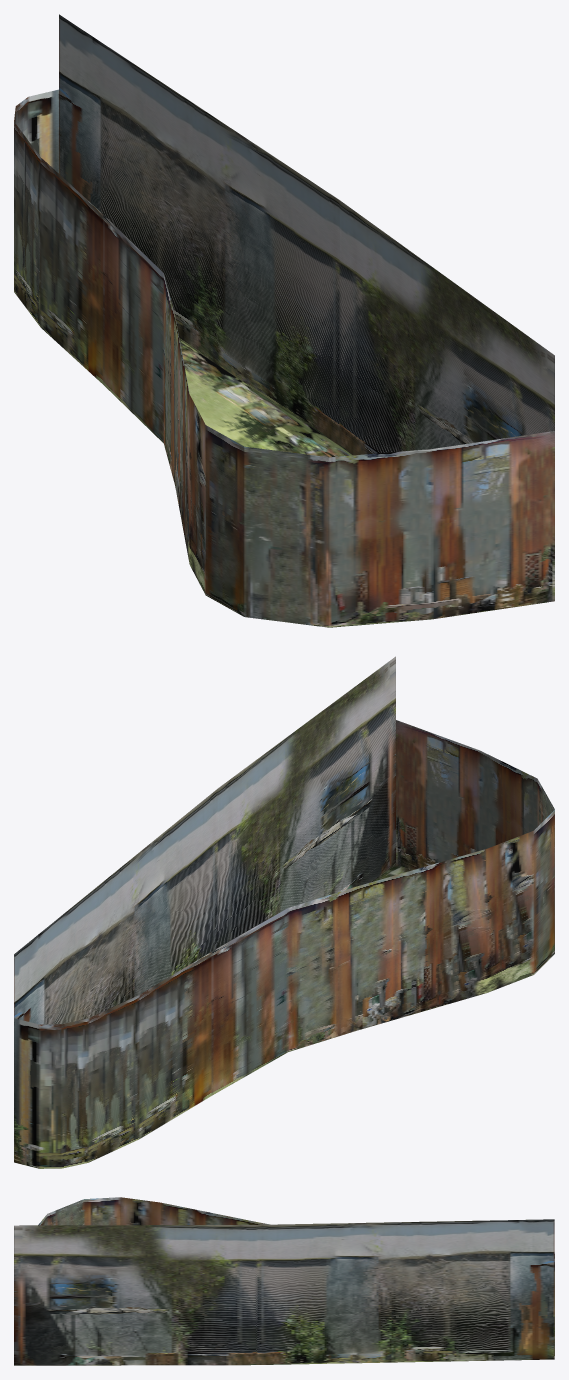
The model's file is Secret G LP.fbx.
3 views of the same model, one above another, from view 1: azimuth 30°, elevation 25°; view 2: azimuth 150°, elevation 25°; view 3: azimuth 270°, elevation 25° (orthographic). The views are drawn at different scales.
Parts seen in each view (by area): view 1: Secret G LP; view 2: Secret G LP; view 3: Secret G LP.
Part boxes in pixels (x1=…): Secret G LP: x1=14, y1=14, x2=554, y2=627; Secret G LP: x1=14, y1=656, x2=554, y2=1168; Secret G LP: x1=14, y1=1197, x2=554, y2=1365.
Bounding box in the file's own units: 669 × 613 × 2144.
Materials: 1 (1 with a texture image).
